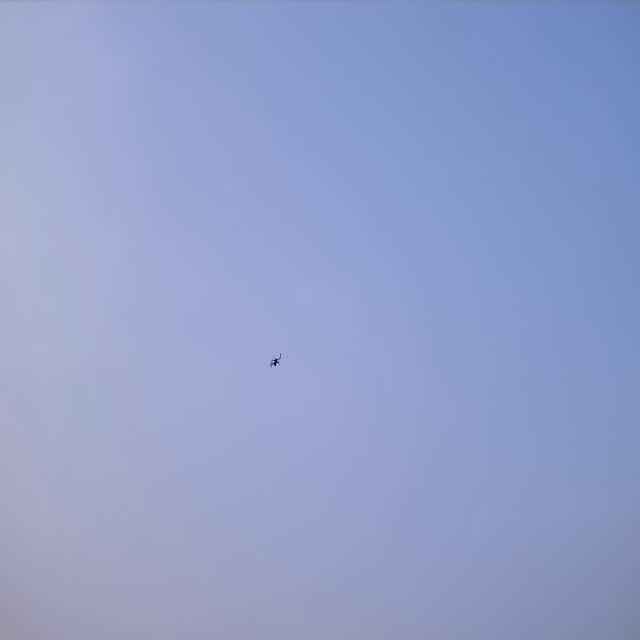UAV: (269, 352, 282, 369)
